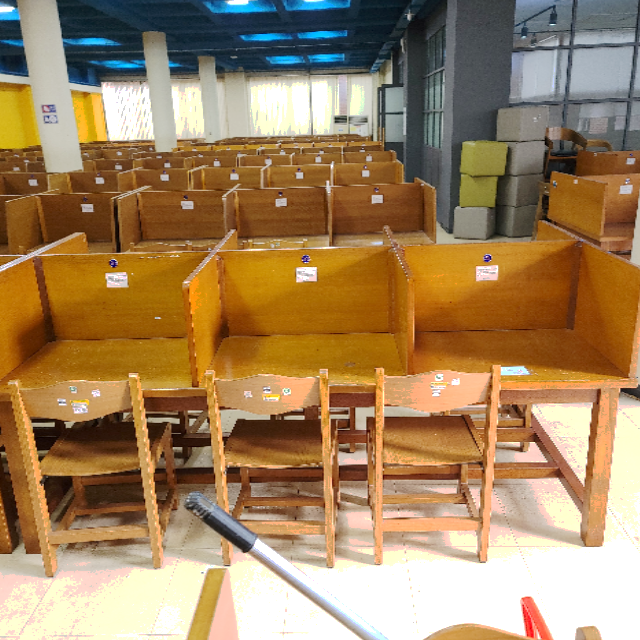empty: (424, 235, 640, 463), (203, 247, 416, 471), (1, 258, 197, 462)
